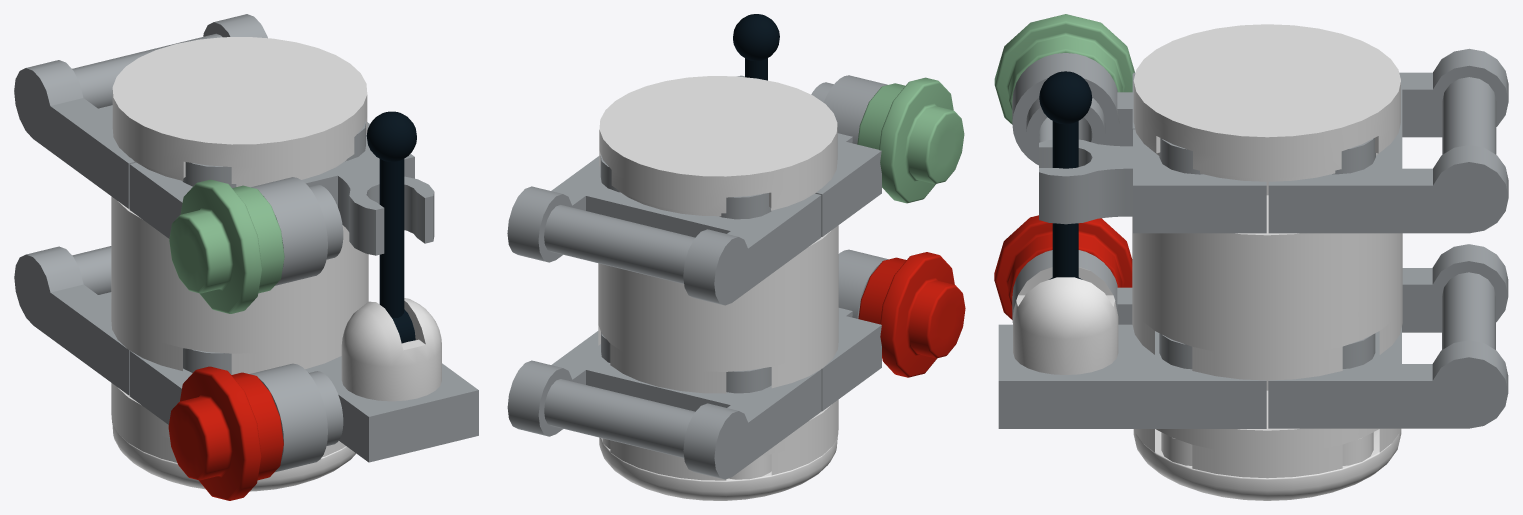
The model's file is LEGO Minikit.fbx.
3 renders of one model, left to right at view 1: azimuth 30°, elevation 25°; view 2: azimuth 150°, elevation 25°; view 3: azimuth 270°, elevation 25°, orthographic. The views are drawn at different scales.
Visible parts, largest first — view 1: Circle.007, Circle.008, Circle.011, Stud_Purple.002, Stud_Purple.001, Circle.010, Circle.013, Circle.012, Object.042, Sphere, Circle.014, Cylinder (+2 smaller); view 2: Circle.007, Circle.008, Circle.011, Circle.010, Stud_Purple.002, Stud_Purple.001, Circle.013, Circle.012, Object.025, Circle.009, Cylinder; view 3: Circle.008, Circle.007, Circle.011, Circle.010, Object.042, Circle.014, Sphere, Circle.009, Object.025, Circle.013, Stud_Purple.001, Stud_Purple.002 (+2 smaller).
Boxes of the visible parts, <box> form: Circle.007: <box>112,37,367,186</box>; Circle.008: <box>111,196,368,374</box>; Circle.011: <box>14,14,267,208</box>; Stud_Purple.002: <box>168,366,283,500</box>; Stud_Purple.001: <box>169,179,284,313</box>; Circle.010: <box>14,246,129,395</box>; Circle.013: <box>129,162,343,285</box>; Circle.012: <box>129,348,343,472</box>; Object.042: <box>305,356,478,462</box>; Sphere: <box>341,298,441,401</box>; Circle.014: <box>302,121,434,255</box>; Cylinder: <box>366,111,416,343</box>; Circle.007: <box>599,76,837,216</box>; Circle.008: <box>598,225,838,393</box>; Circle.011: <box>507,155,821,305</box>; Circle.010: <box>507,331,821,479</box>; Stud_Purple.002: <box>858,252,965,377</box>; Stud_Purple.001: <box>857,77,964,203</box>; Circle.013: <box>811,75,887,236</box>; Circle.012: <box>821,249,888,411</box>; Object.025: <box>599,437,837,500</box>; Circle.009: <box>610,399,838,480</box>; Cylinder: <box>733,14,779,80</box>; Circle.008: <box>1132,181,1402,380</box>; Circle.007: <box>1133,24,1400,181</box>; Circle.011: <box>1268,48,1508,233</box>; Circle.010: <box>1268,244,1508,428</box>; Object.042: <box>998,324,1266,428</box>; Circle.014: <box>1039,129,1266,233</box>; Sphere: <box>1013,267,1118,374</box>; Circle.009: <box>1134,380,1400,478</box>; Object.025: <box>1133,429,1401,500</box>; Circle.013: <box>1012,53,1135,165</box>; Stud_Purple.001: <box>994,14,1134,124</box>; Stud_Purple.002: <box>994,215,1132,319</box>.
Size of the model in its own units: 57.56 by 94.04 by 85.64.
